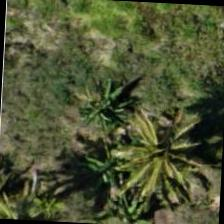Kelapa_Sawit: (107, 111, 202, 206)
